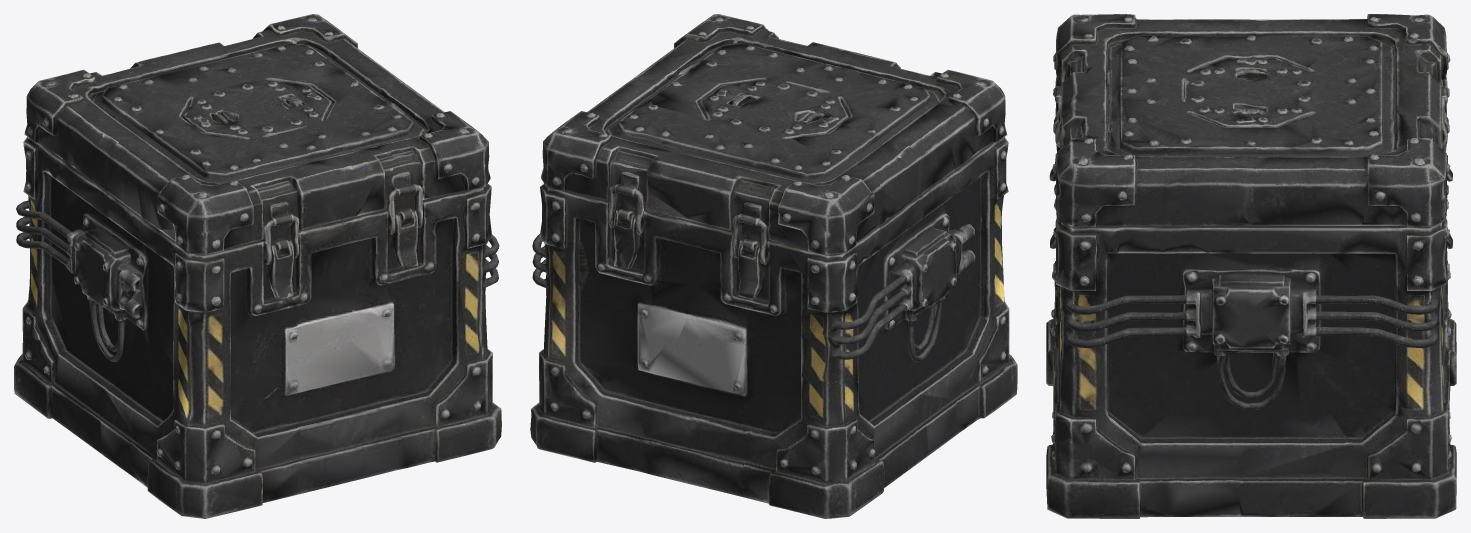
Rendered from caja.glb.
The picture shows the model from 3 angles, left to right: view 1: azimuth 30°, elevation 25°; view 2: azimuth 150°, elevation 25°; view 3: azimuth 270°, elevation 25°; orthographic projection. The views are drawn at different scales.
Size of the model in its own units: 1.9 by 1.7 by 1.83.
Materials: 1 (1 with a texture image).
